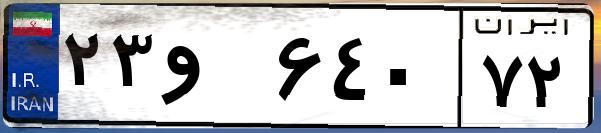0: (385, 28, 445, 110)
2: (57, 26, 110, 100), (525, 38, 570, 115)
3: (110, 28, 158, 98)
4: (330, 28, 385, 110)
6: (270, 28, 330, 110)
7: (475, 38, 525, 113)
و: (158, 20, 270, 120)
